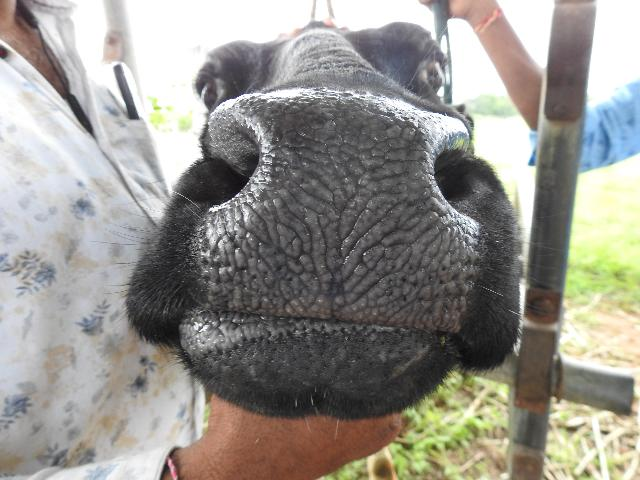Muzzle: (252, 97, 438, 326)
